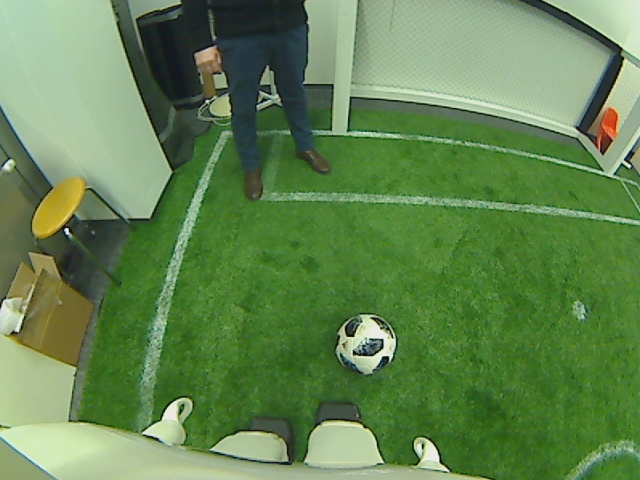ball: (333, 308, 398, 377)
